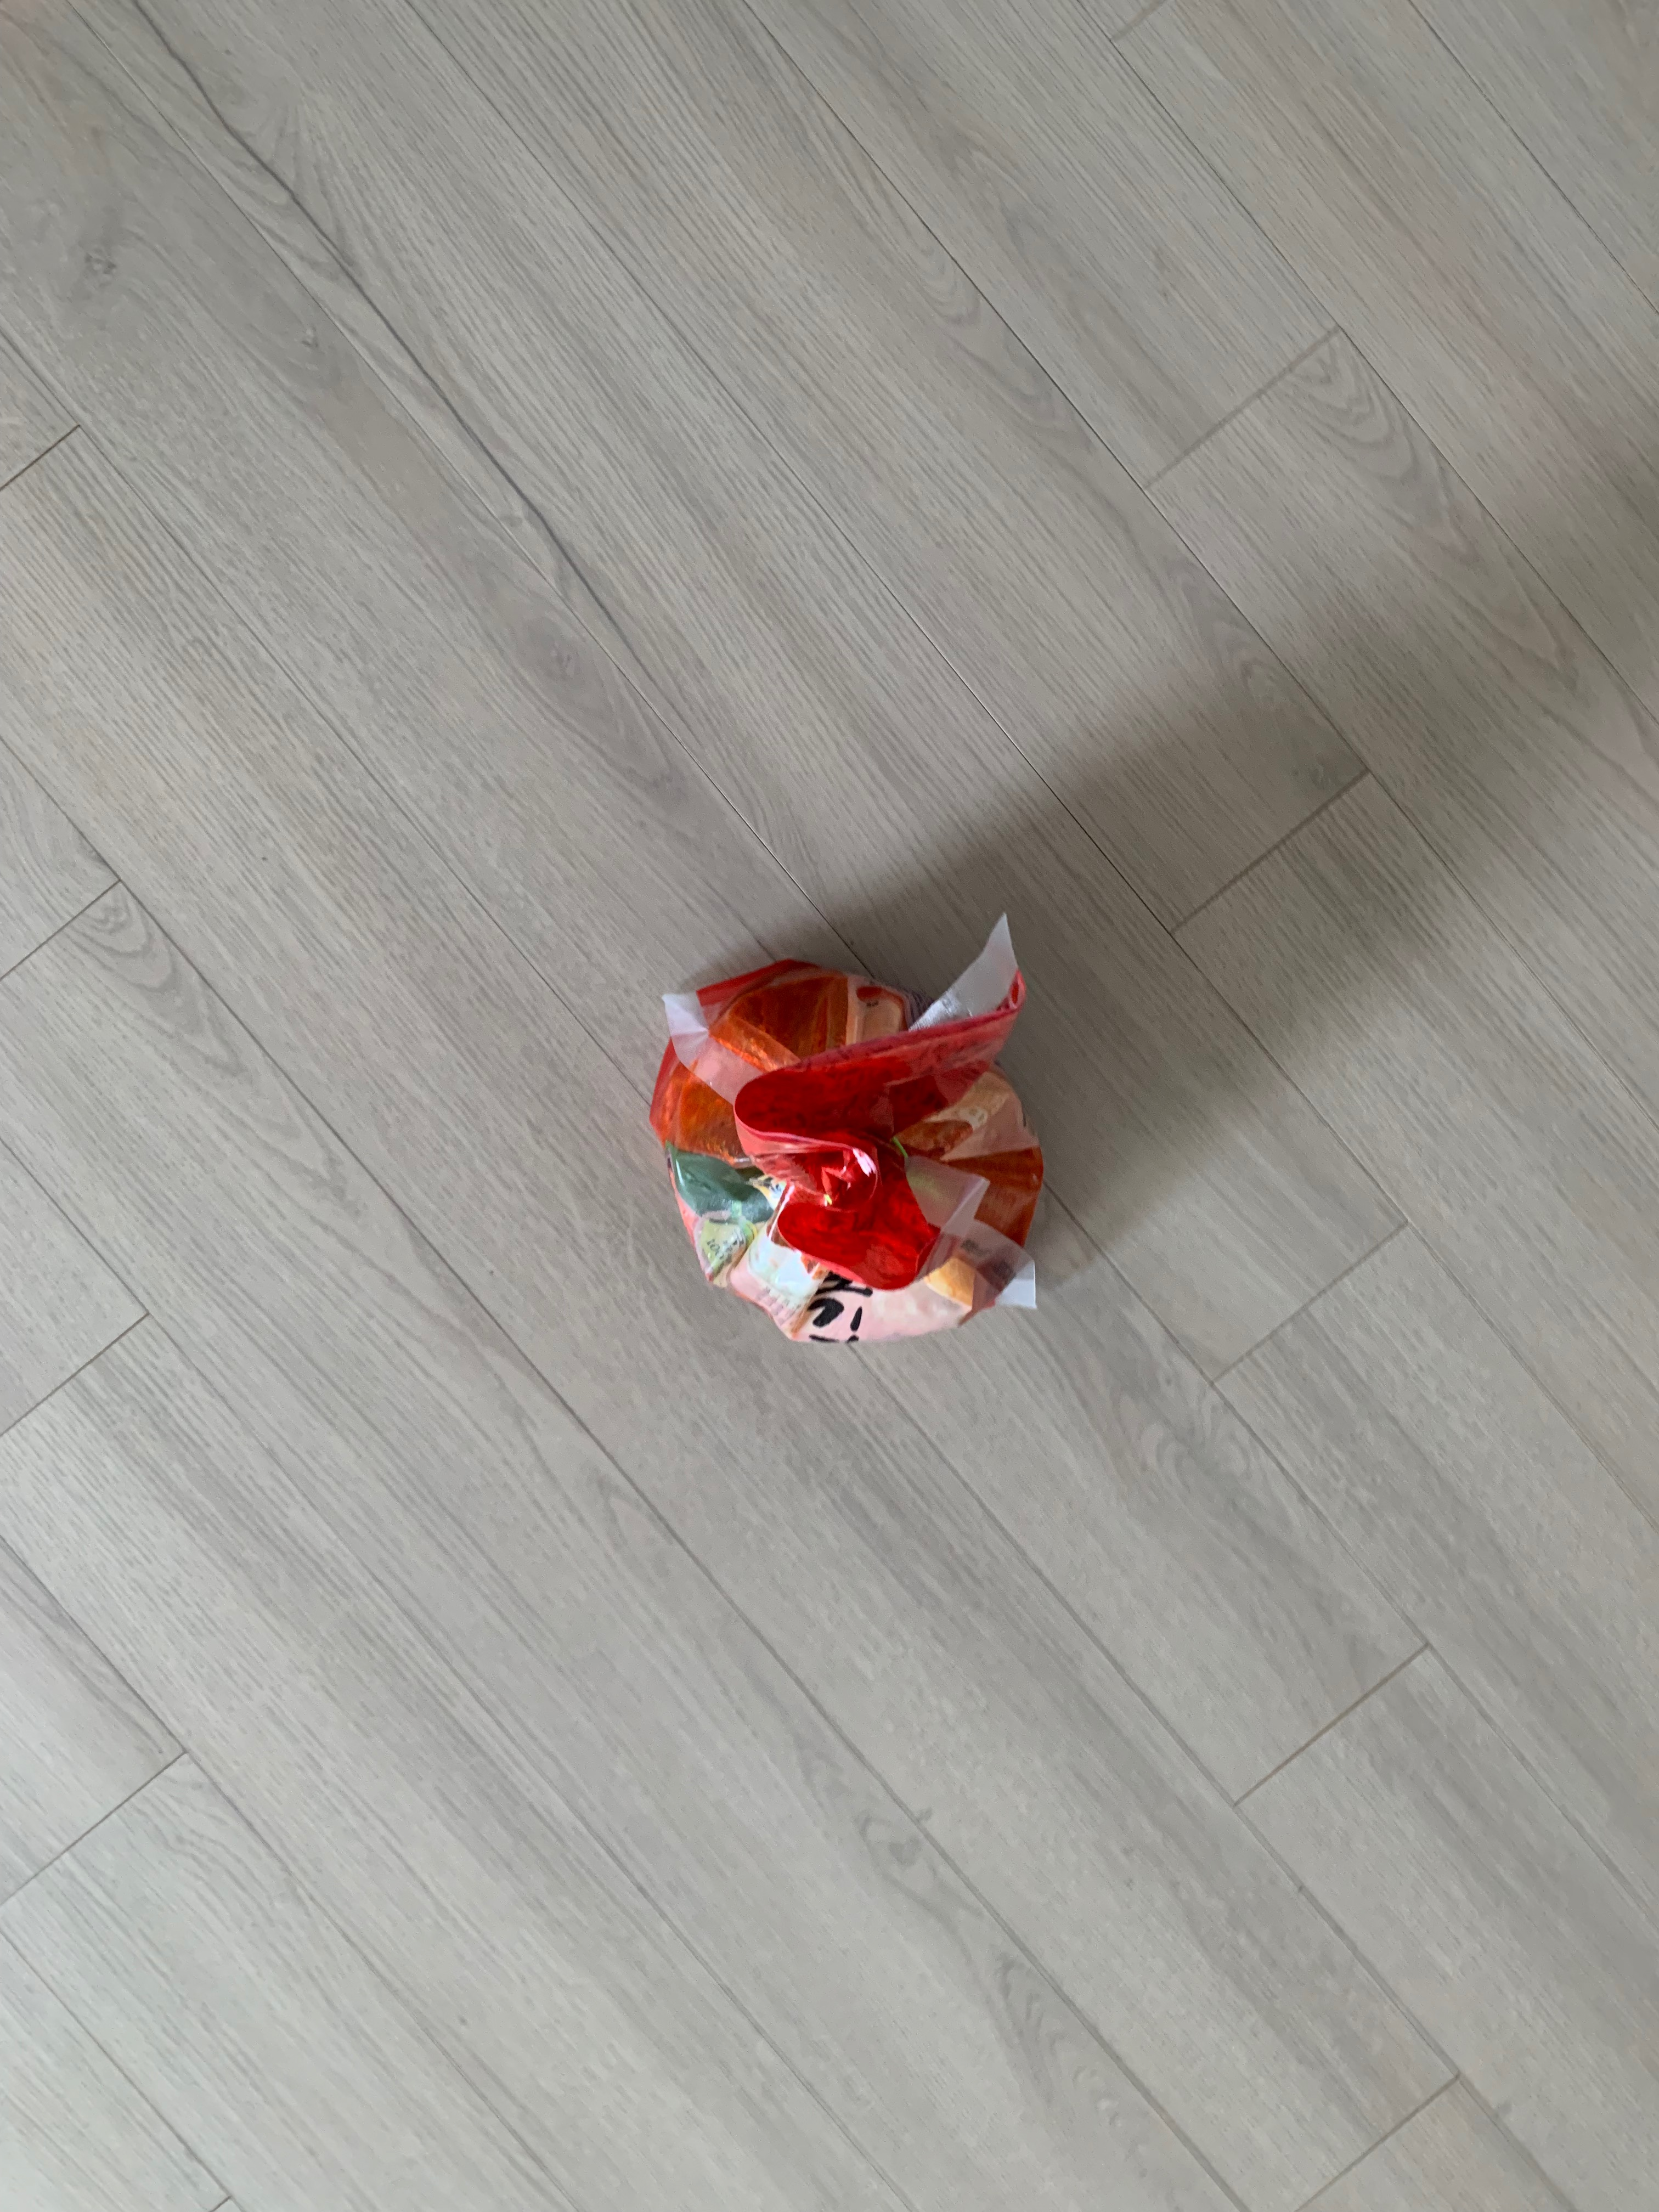kimchi: (647, 954, 1054, 1339)
